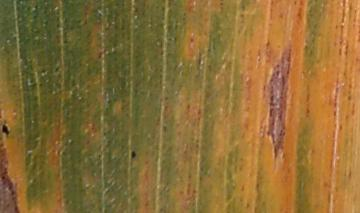tarspot: (1, 123, 9, 136), (130, 149, 137, 158)
